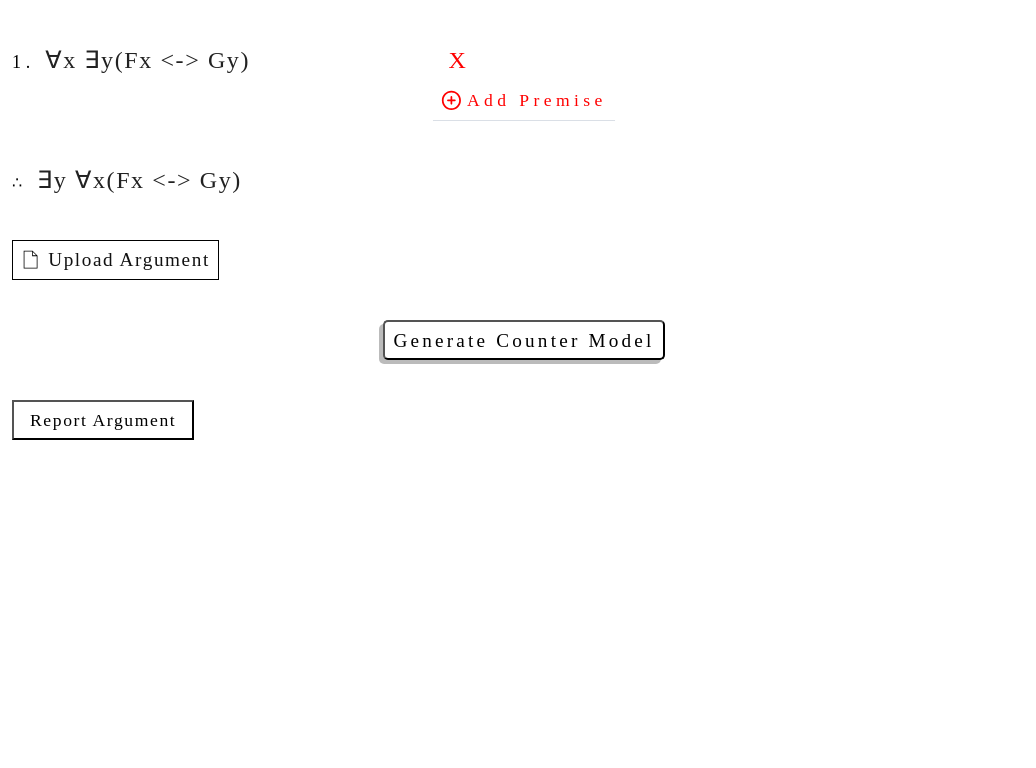
Test case: Propositional Logic Body › checks for truthFE steps on click
Click the button with aria-label "submit argument".
click(524, 340)  # box [383, 320, 665, 360]
(page scrolled)
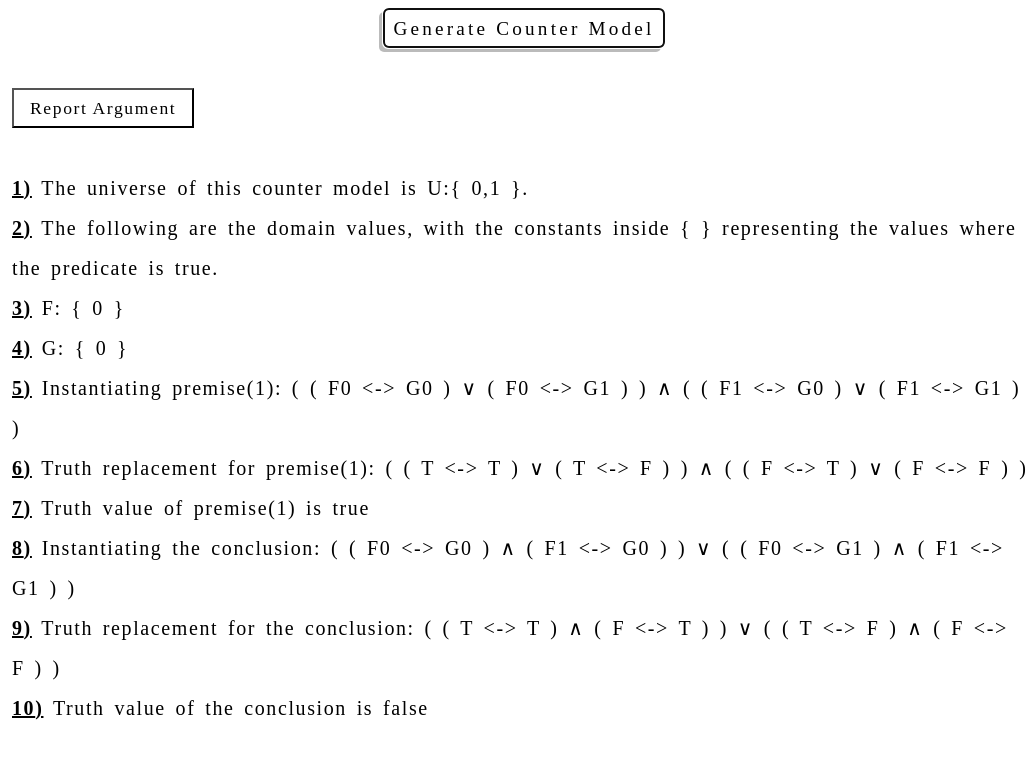
Expected: the text "The universe of this counter model is U:{ 0,1 }." is shown, [41, 177, 529, 199]
Expected: the text "The following are the domain values, with the constants inside { } representing the values where the predicate is true." is shown, [12, 217, 1016, 279]
Expected: the text "F: { 0 }" is shown, [42, 297, 125, 319]
